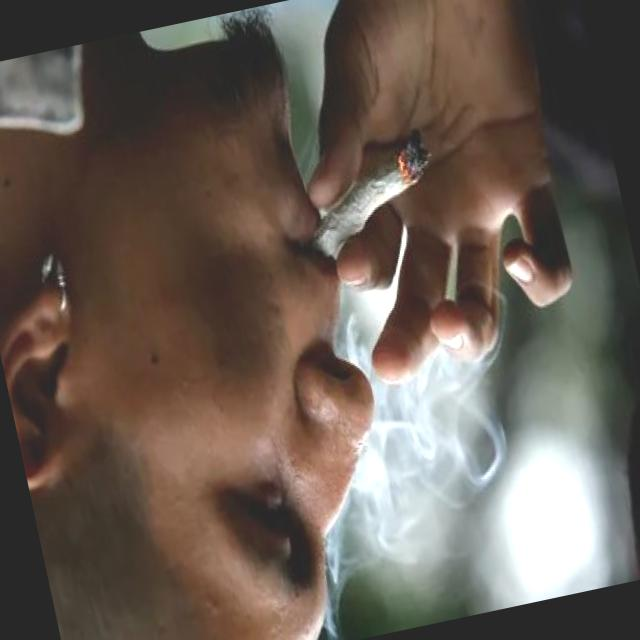smoke: (294, 128, 467, 274)
